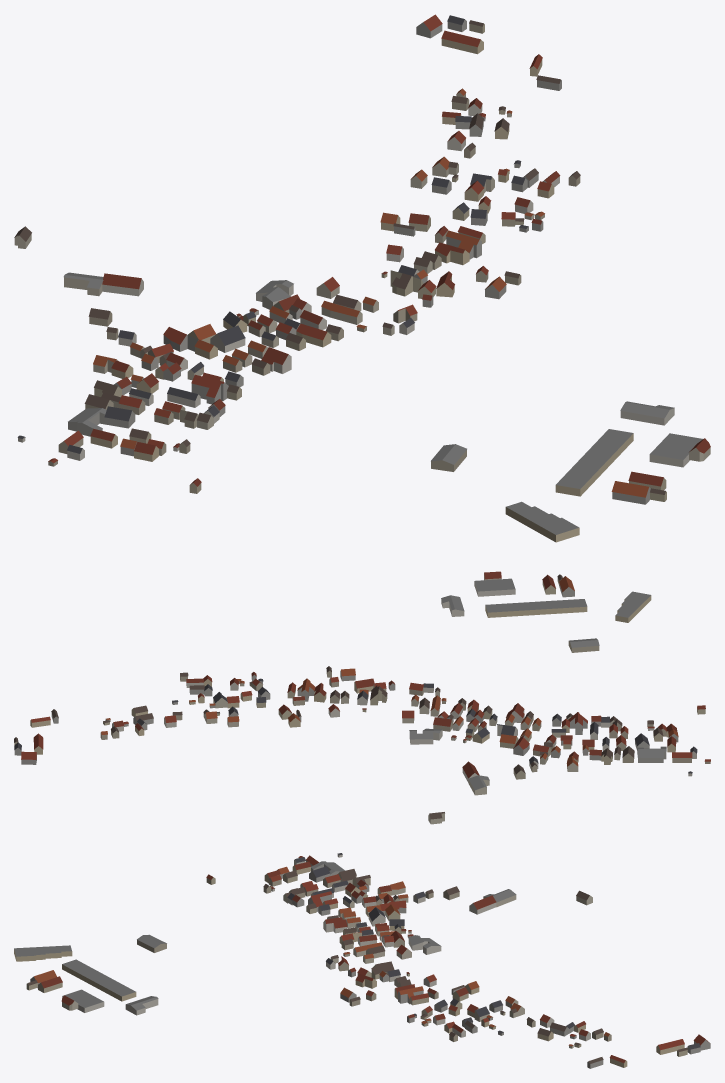
3 renders of one model, top to bottom at view 1: azimuth 30°, elevation 25°; view 2: azimuth 150°, elevation 25°; view 3: azimuth 270°, elevation 25°, orthographic. The views are drawn at different scales.
Visible parts, largest first — view 1: buildings; view 2: buildings; view 3: buildings.
Boxes of the visible parts, box(x1,y1,x2,y2) form: buildings: box(14, 14, 710, 542); buildings: box(14, 571, 710, 824); buildings: box(14, 853, 710, 1068).
Bounding box in the file's own units: 616 × 54.42 × 744.
